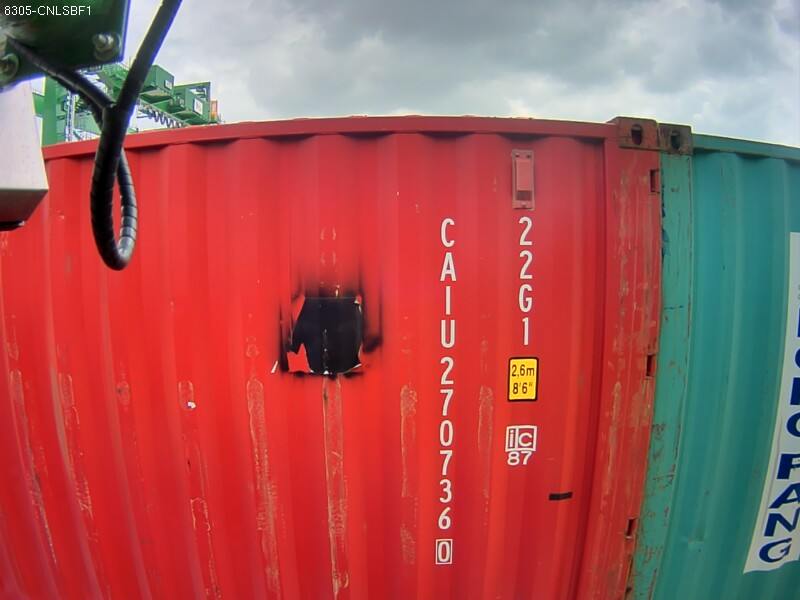container_no_door: (279, 114, 698, 539)
